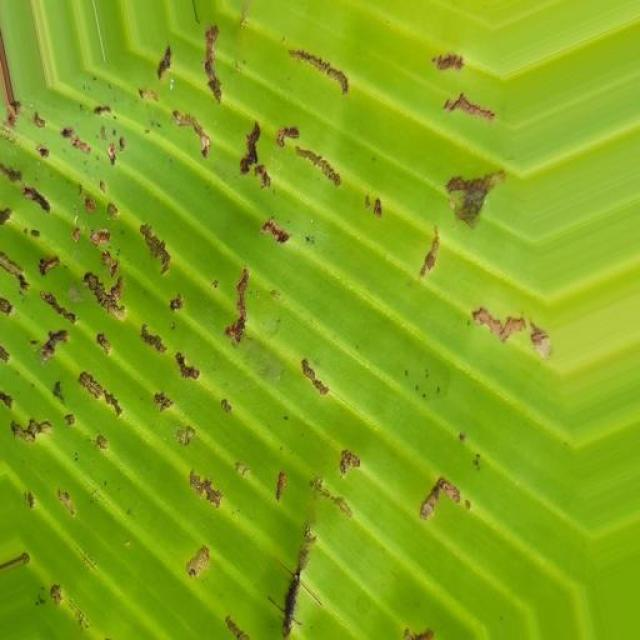Black_rot: (4, 4, 581, 640)
